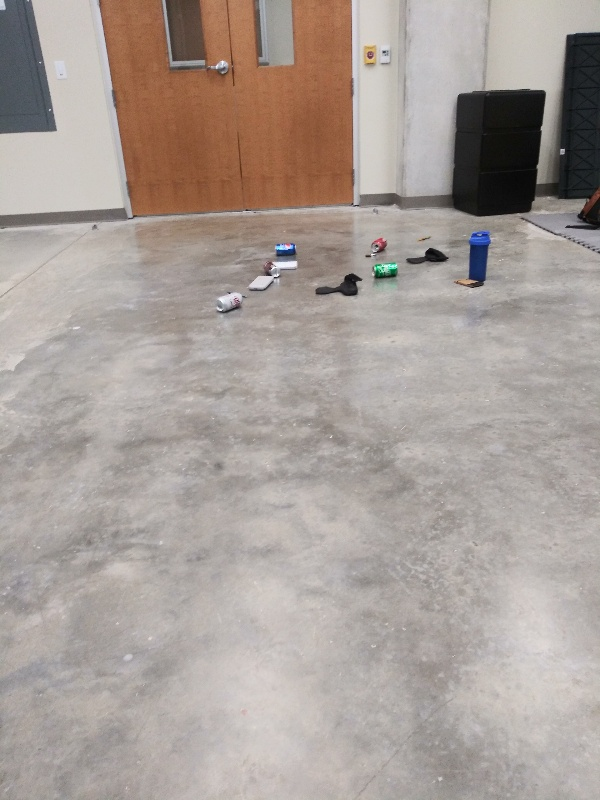can: (211, 290, 245, 314), (370, 260, 399, 280), (272, 240, 298, 256), (369, 236, 390, 253), (261, 261, 281, 278)
